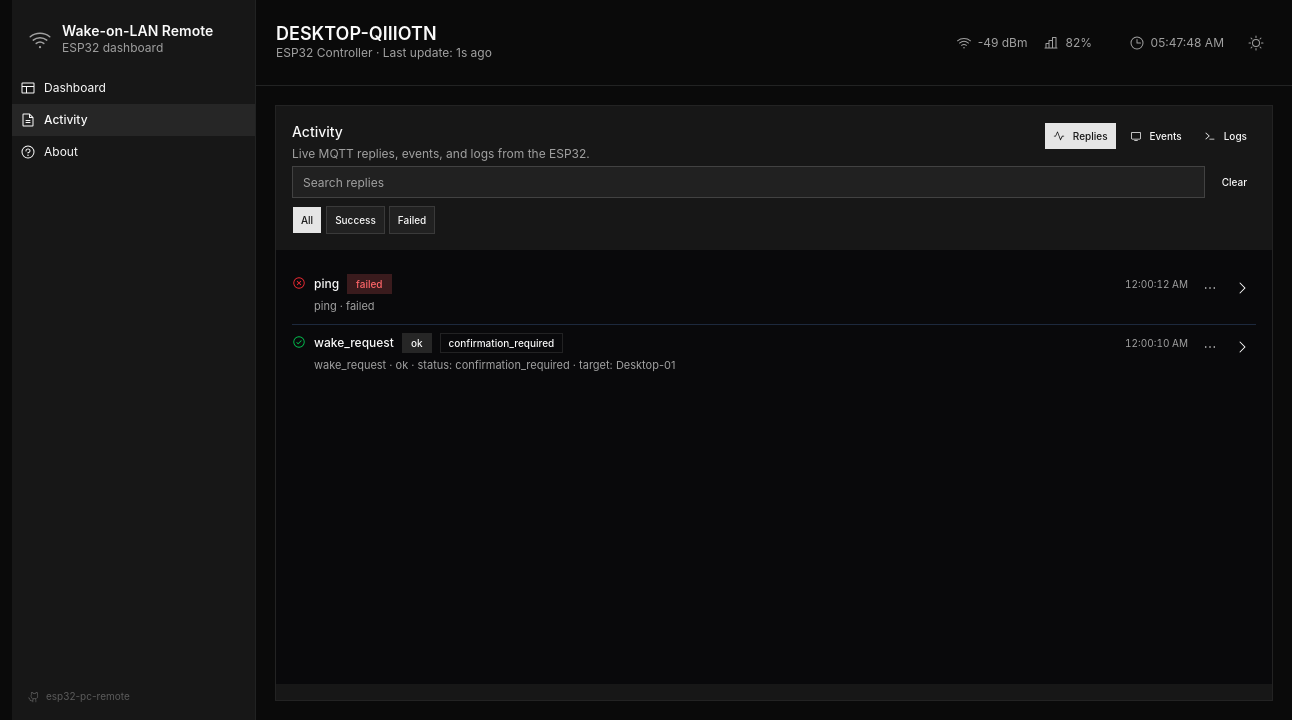
Test case: Activity page › filters the active tab only
Step 1. Type "ping" into the field with placeholder "Search replies" → {"x": 748, "y": 182}, box [292,166,1205,198]
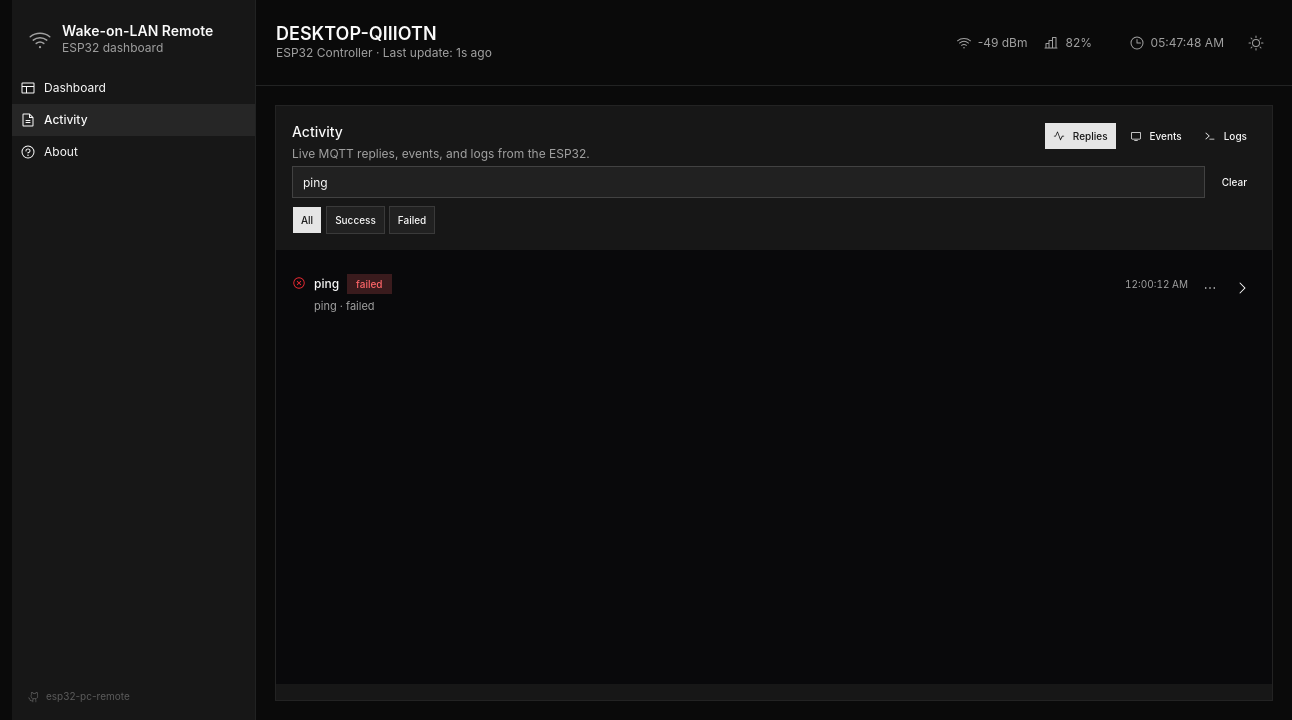
Expected: the number of buttons named "Copy reply" is 1, [1196,274,1224,302]
Step 2. Click the button "Events" → {"x": 1156, "y": 136}, box [1120,122,1191,150]
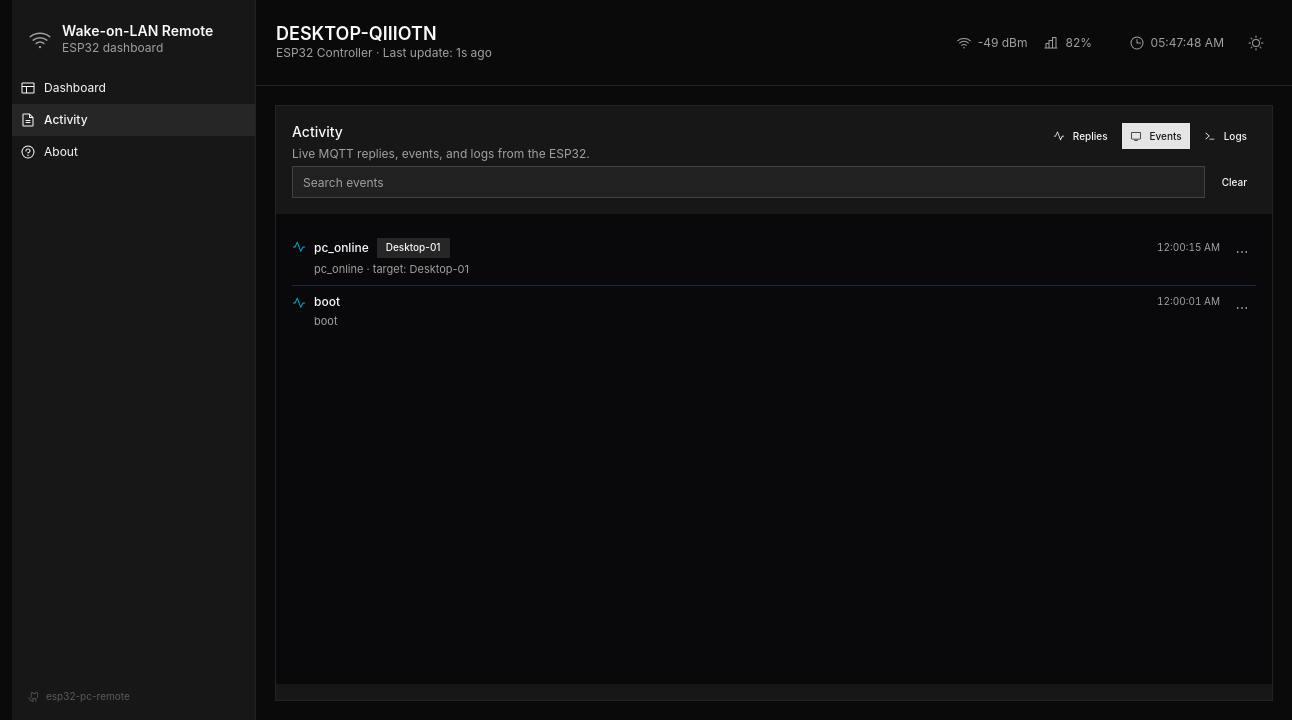
Expected: the number of buttons named "Copy event" is 2, [1228,238,1256,266]; [1228,294,1256,322]
Step 3. Type "boot" into the field with placeholder "Search events" → {"x": 748, "y": 182}, box [292,166,1205,198]
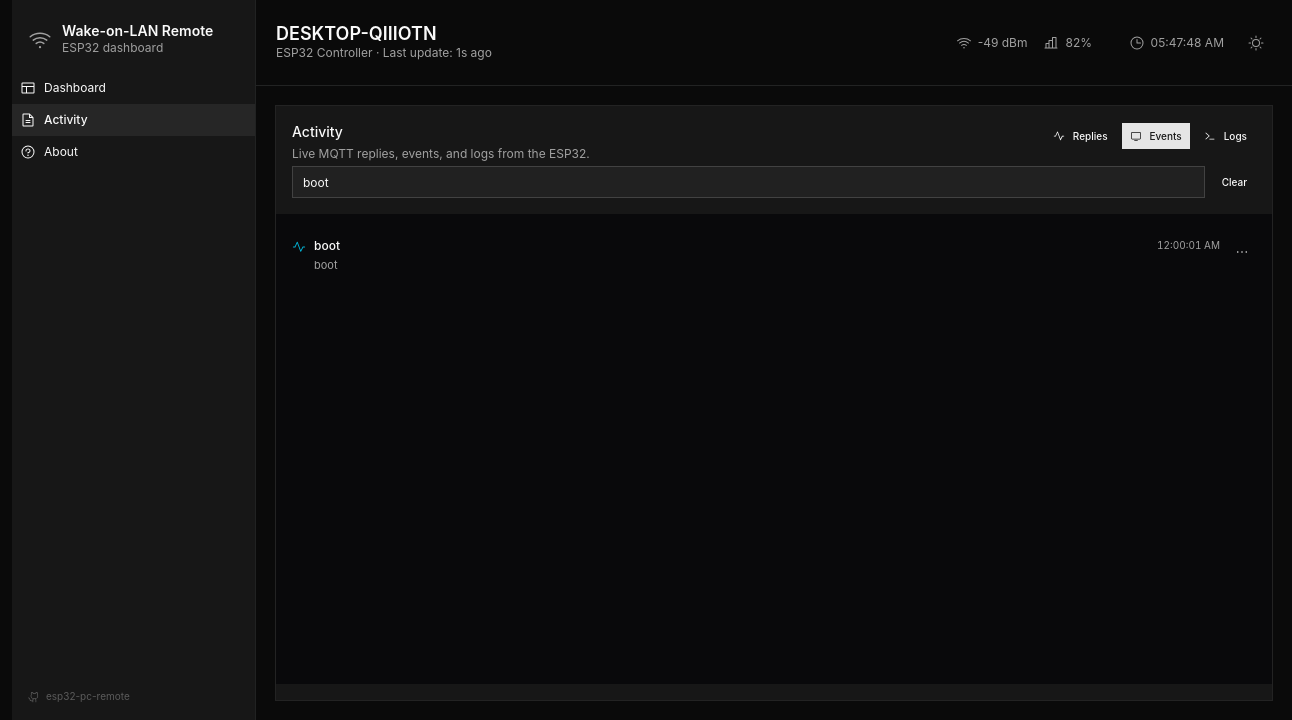
Expected: the number of buttons named "Copy event" is 1, [1228,238,1256,266]
